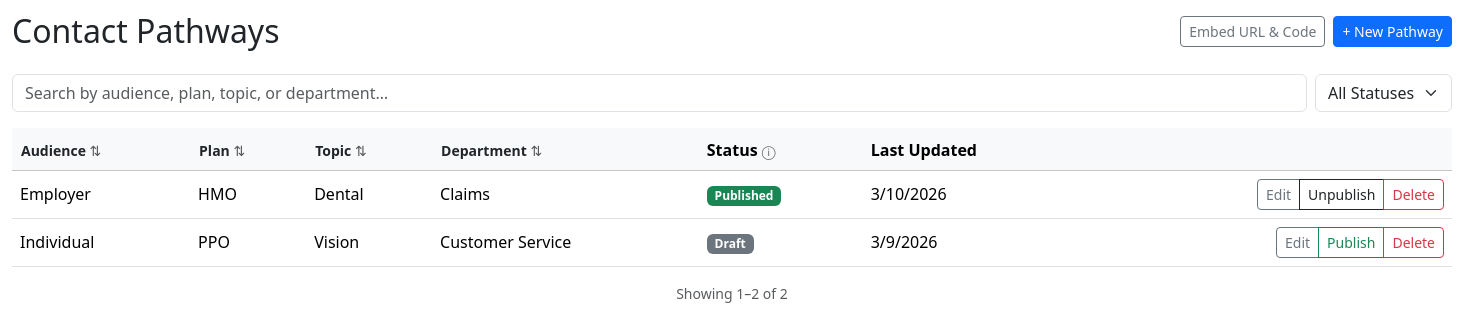
Test: PathwaysListPage › Search › filters rows by topic name
Expected: the text "Dental" is shown, [306, 170, 432, 218]
Step 1. Type "Vision" into the search field named "search pathways" → [660, 93], box [12, 74, 1307, 112]
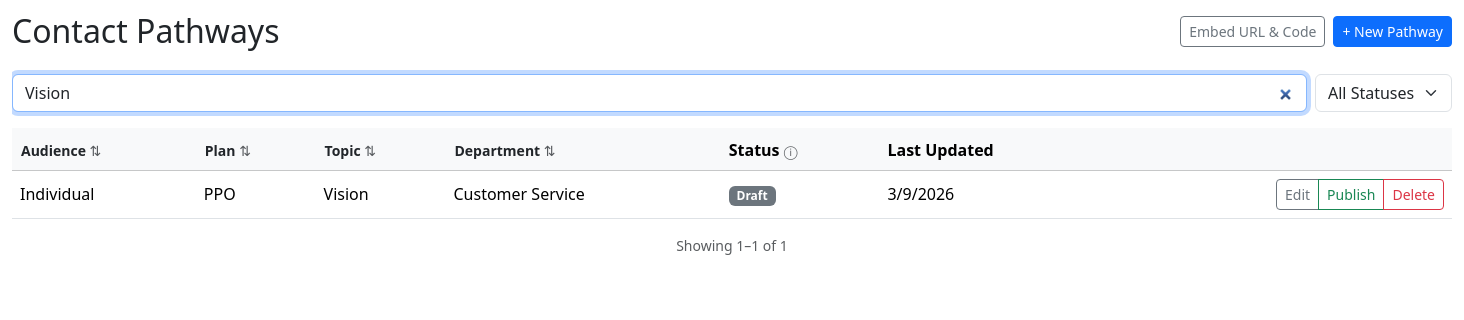
Expected: the text "Vision" is shown, [316, 170, 446, 218]
Expected: the text "Dental" is gone
